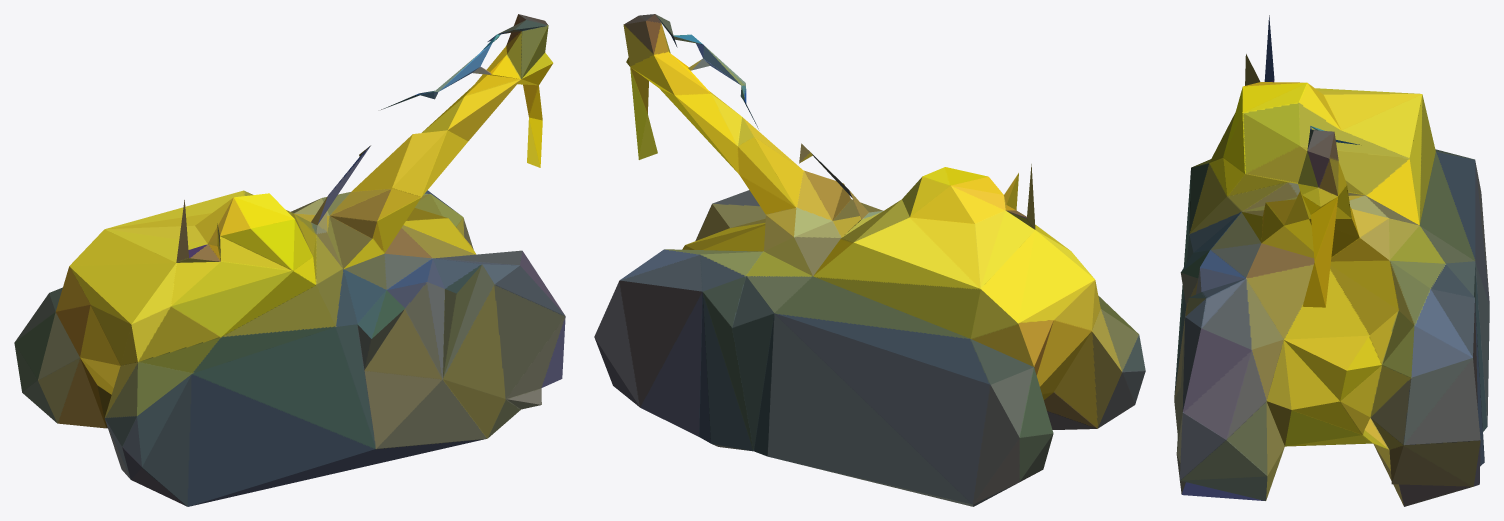
Rendered from minion.glb.
3 views of the same model, side by side, from view 1: azimuth 30°, elevation 25°; view 2: azimuth 150°, elevation 25°; view 3: azimuth 270°, elevation 25° (orthographic). The views are drawn at different scales.
Bounding box in the file's own units: 1.65 × 1.2 × 0.8125.
Materials: 1 (1 with a texture image).
